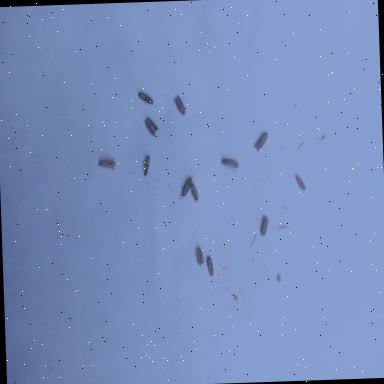pbw: (180, 172, 195, 198), (253, 131, 268, 150), (144, 116, 158, 136), (174, 95, 186, 115), (137, 90, 153, 104), (98, 158, 116, 170), (259, 213, 268, 236), (194, 243, 203, 266), (294, 173, 305, 191), (222, 157, 238, 168), (190, 182, 198, 202), (143, 154, 150, 176), (206, 255, 213, 276)
